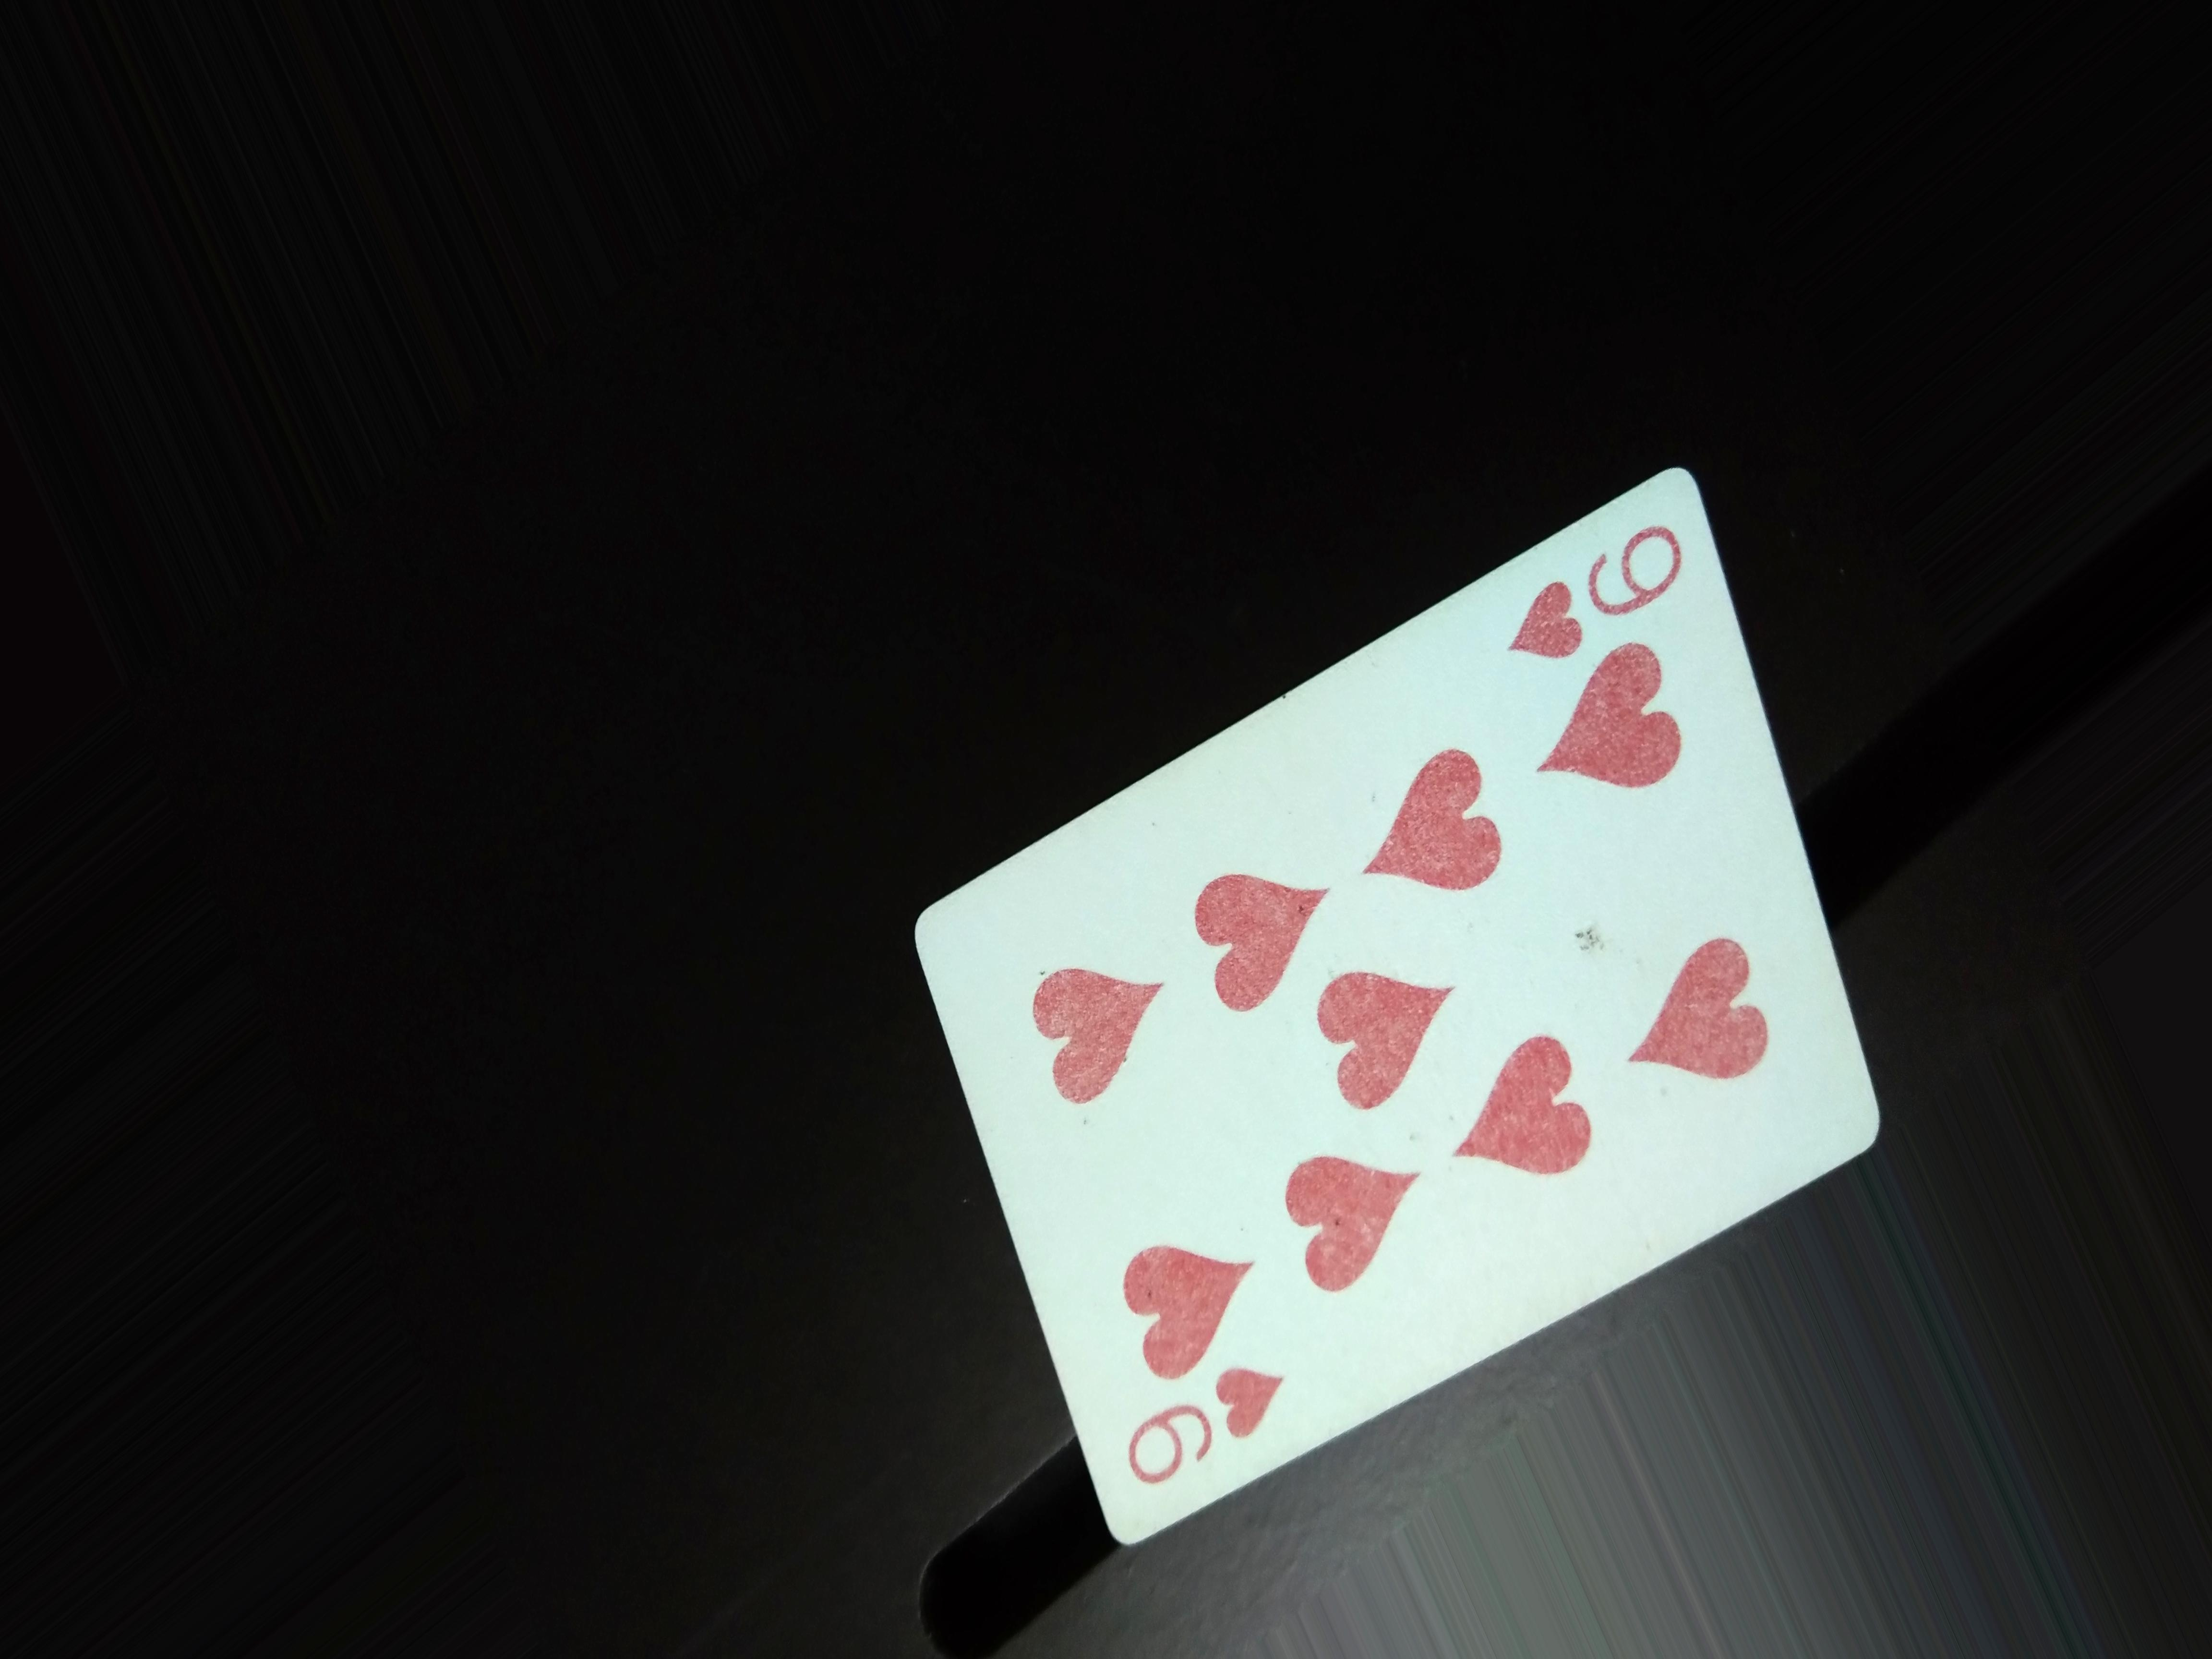9H: (1477, 511, 1688, 685)
